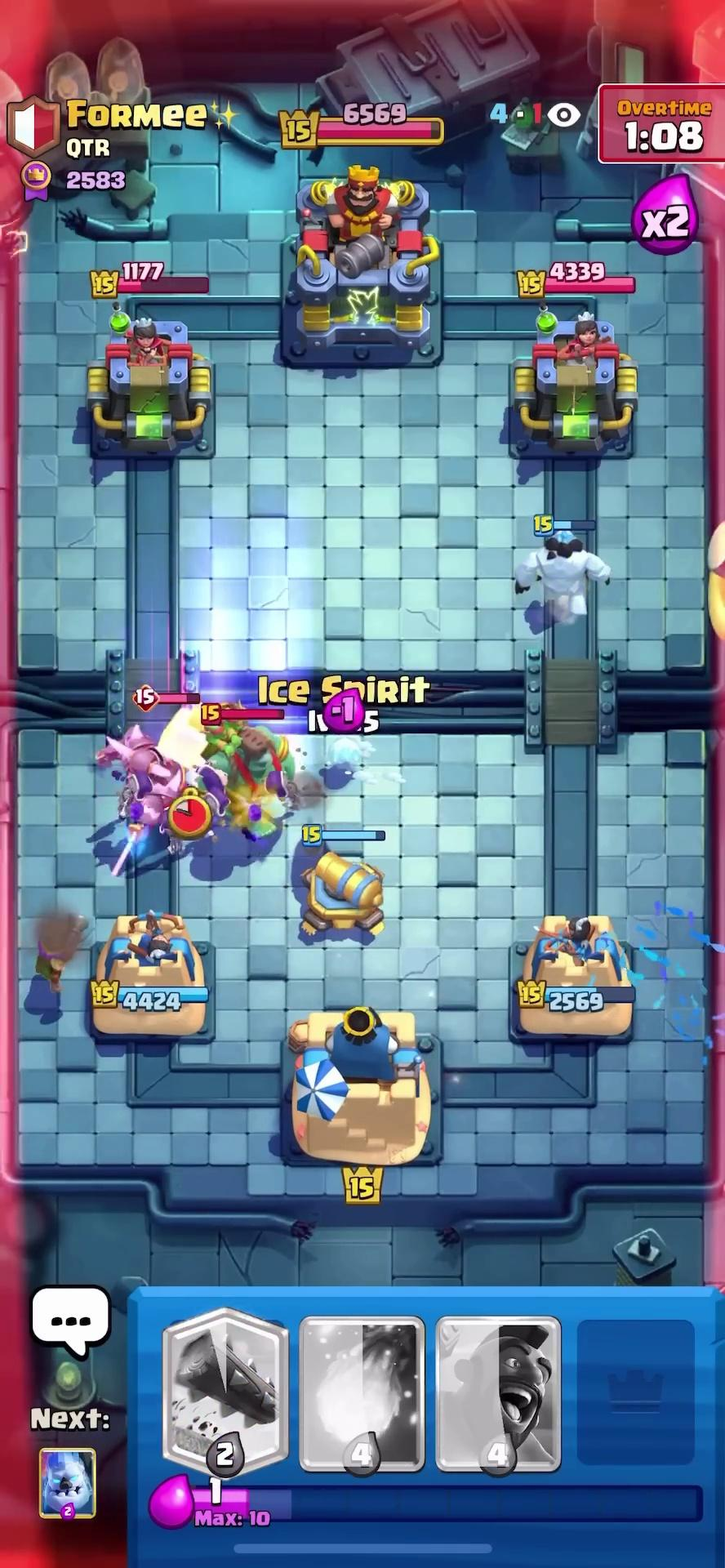cannon: (292, 821, 386, 941)
evo_skeletons: (127, 776, 239, 827)
ice_golem: (510, 514, 639, 631)
musketeer: (8, 894, 94, 1002)
